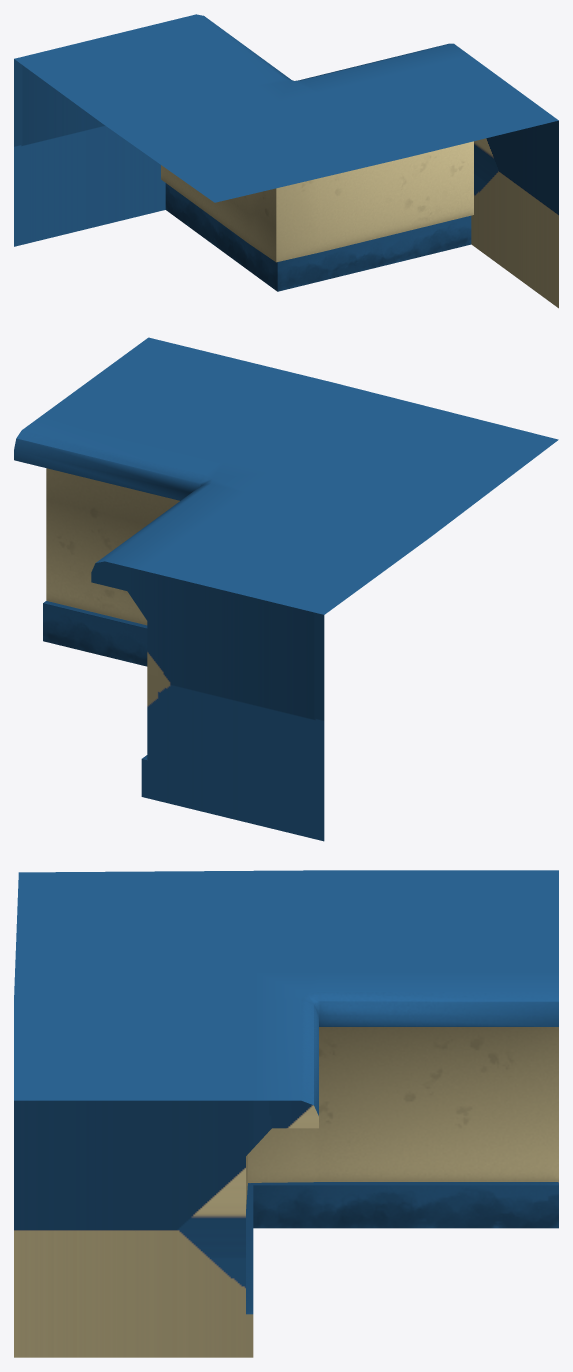
Rendered from PROP_063_Counters_B.fbx.
3 views of the same model, one above another, from view 1: azimuth 30°, elevation 25°; view 2: azimuth 150°, elevation 25°; view 3: azimuth 270°, elevation 25° (orthographic). The views are drawn at different scales.
Parts seen in each view (by area): view 1: Counter_2.002; view 2: Counter_2.002; view 3: Counter_2.002.
Boxes of the visible parts, bbox=[...] form: Counter_2.002: bbox=[14, 14, 558, 308]; Counter_2.002: bbox=[14, 337, 558, 841]; Counter_2.002: bbox=[14, 870, 558, 1357].
Size of the model in its own units: 2.41 by 1.25 by 2.41.
Materials: 1 (1 with a texture image).
